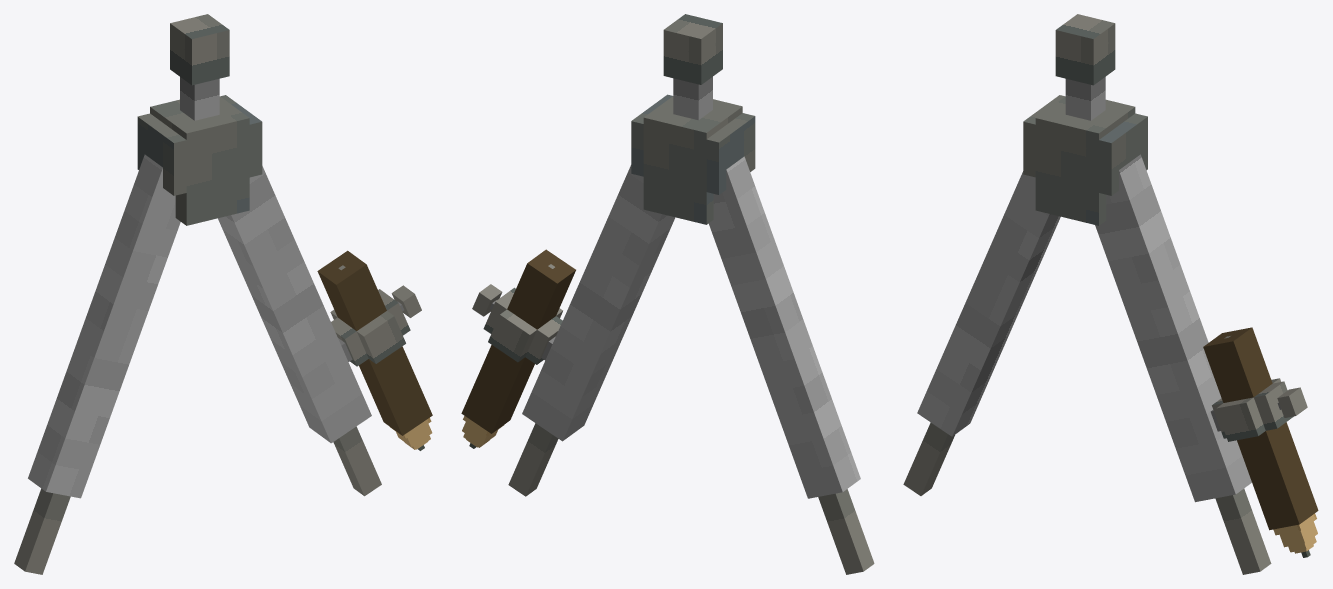
Rendered from scale_arm_compass.gltf.
3 views of the same model, side by side, from view 1: azimuth 30°, elevation 25°; view 2: azimuth 150°, elevation 25°; view 3: azimuth 330°, elevation 25° (orthographic).
Parts seen in each view (by area): view 1: cube (×13); view 2: cube (×13); view 3: cube (×13).
Part boxes in pixels (x1,y1,x2,y2): cube (×13): [14, 14, 432, 574]; cube (×13): [461, 14, 874, 574]; cube (×13): [903, 14, 1318, 574].
Size of the model in its own units: 1 by 1.2 by 0.1562.
Materials: 4 (4 with a texture image).
